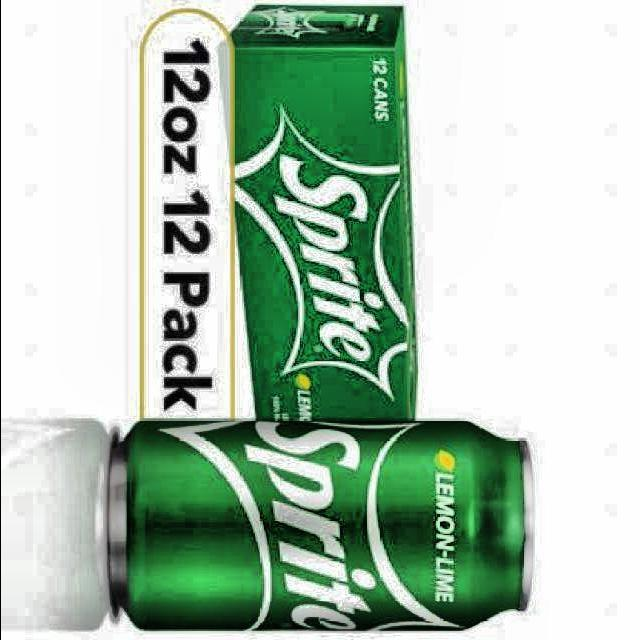litter: (102, 418, 545, 640)
